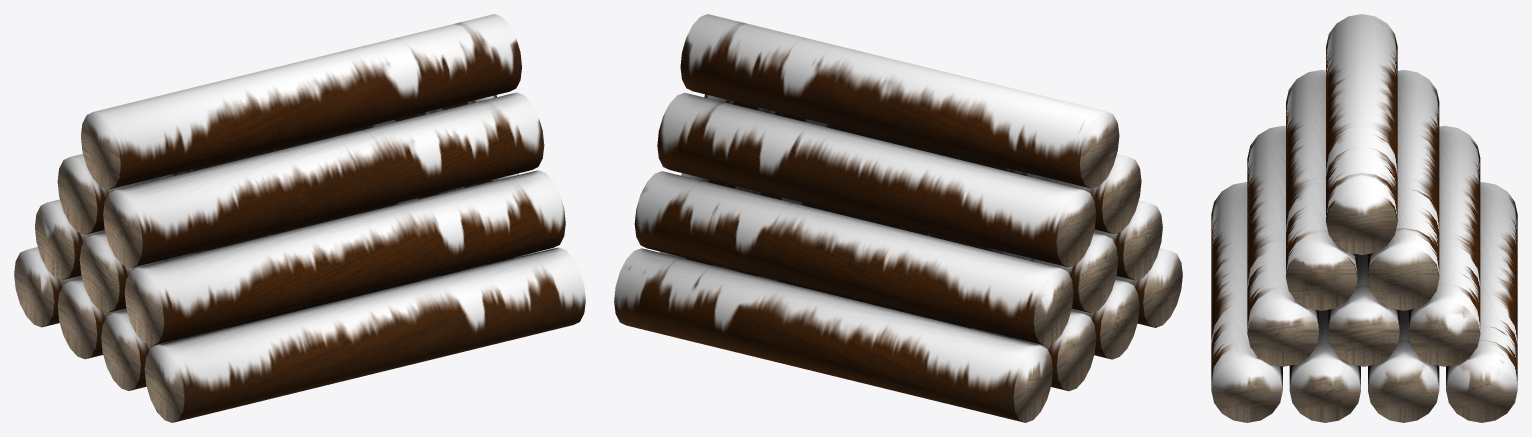
Rendered from wood01.fbx.
The picture shows the model from 3 angles, left to right: view 1: azimuth 30°, elevation 25°; view 2: azimuth 150°, elevation 25°; view 3: azimuth 270°, elevation 25°; orthographic projection. The views are drawn at different scales.
Parts seen in each view (by area): view 1: Cylinder004, Cylinder009, Cylinder007, Cylinder010, Cylinder008, Cylinder006, Cylinder003, Cylinder005, Cylinder002, Cylinder001; view 2: Cylinder005, Cylinder001, Cylinder008, Cylinder010, Cylinder009, Cylinder006, Cylinder002, Cylinder007, Cylinder004, Cylinder003; view 3: Cylinder010, Cylinder008, Cylinder005, Cylinder009, Cylinder007, Cylinder001, Cylinder004, Cylinder006, Cylinder002, Cylinder003.
Part boxes in pixels (bbox=[...]): Cylinder004: bbox=[144, 247, 585, 422]; Cylinder009: bbox=[103, 92, 544, 267]; Cylinder007: bbox=[124, 170, 565, 345]; Cylinder010: bbox=[81, 14, 521, 189]; Cylinder008: bbox=[57, 95, 496, 234]; Cylinder006: bbox=[79, 173, 518, 312]; Cylinder003: bbox=[101, 251, 539, 390]; Cylinder005: bbox=[35, 199, 105, 279]; Cylinder002: bbox=[57, 278, 126, 359]; Cylinder001: bbox=[14, 247, 82, 327]; Cylinder005: bbox=[634, 171, 1073, 345]; Cylinder001: bbox=[614, 248, 1052, 422]; Cylinder008: bbox=[657, 92, 1096, 267]; Cylinder010: bbox=[680, 14, 1119, 188]; Cylinder009: bbox=[704, 94, 1141, 234]; Cylinder006: bbox=[681, 173, 1118, 312]; Cylinder002: bbox=[659, 251, 1096, 391]; Cylinder007: bbox=[1093, 200, 1162, 280]; Cylinder004: bbox=[1115, 248, 1182, 327]; Cylinder003: bbox=[1071, 279, 1139, 359]; Cylinder010: bbox=[1326, 14, 1397, 254]; Cylinder008: bbox=[1368, 70, 1439, 310]; Cylinder005: bbox=[1409, 125, 1480, 366]; Cylinder009: bbox=[1286, 70, 1357, 310]; Cylinder007: bbox=[1247, 125, 1318, 366]; Cylinder001: bbox=[1446, 182, 1517, 422]; Cylinder004: bbox=[1211, 182, 1282, 422]; Cylinder006: bbox=[1328, 254, 1399, 366]; Cylinder002: bbox=[1368, 310, 1439, 422]; Cylinder003: bbox=[1289, 310, 1360, 422].
Bounding box in the file's own units: 47.45 × 29.21 × 34.84.
